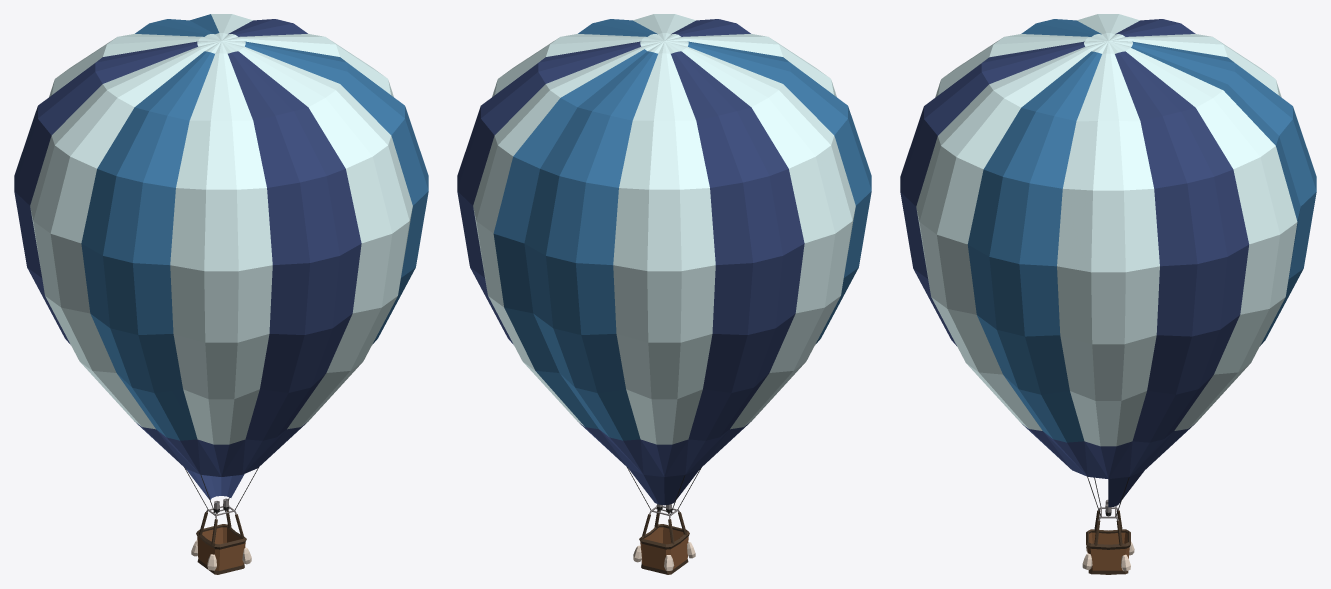
The model's file is balloon-stripes.glb.
3 renders of one model, left to right at view 1: azimuth 30°, elevation 25°; view 2: azimuth 150°, elevation 25°; view 3: azimuth 270°, elevation 25°, orthographic.
Parts seen in each view (by area): view 1: balloon-stripes; view 2: balloon-stripes; view 3: balloon-stripes.
Part boxes in pixels (x1=…): balloon-stripes: x1=14, y1=14, x2=428, y2=574; balloon-stripes: x1=457, y1=14, x2=871, y2=574; balloon-stripes: x1=900, y1=14, x2=1316, y2=574.
Size of the model in its own units: 16.03 by 22.43 by 16.03.
1 material, 1 textured.
